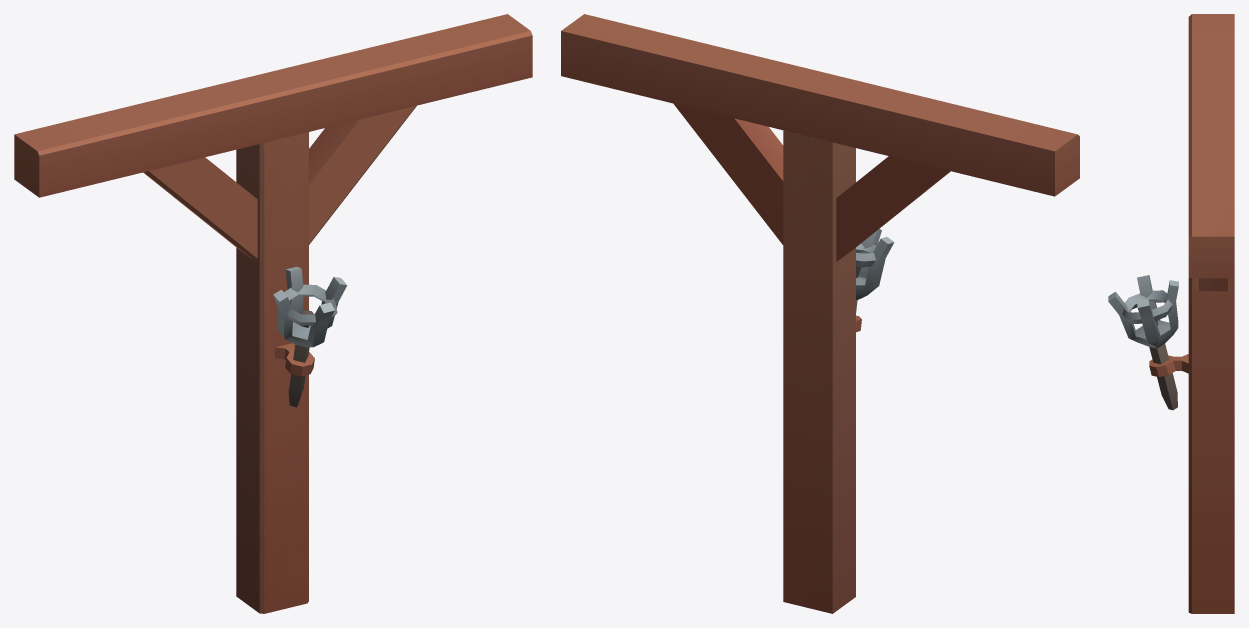
The model's file is scaffold_pillar_wall_torch.glb.
3 views of the same model, side by side, from view 1: azimuth 30°, elevation 25°; view 2: azimuth 150°, elevation 25°; view 3: azimuth 270°, elevation 25° (orthographic). The views are drawn at different scales.
Parts seen in each view (by area): view 1: scaffold_pillar_wall_torch; view 2: scaffold_pillar_wall_torch; view 3: scaffold_pillar_wall_torch.
Boxes of the visible parts, <box> form: scaffold_pillar_wall_torch: <box>14,14,532,613</box>; scaffold_pillar_wall_torch: <box>561,14,1079,613</box>; scaffold_pillar_wall_torch: <box>1108,14,1234,613</box>.
Size of the model in its own units: 4 by 4 by 0.9605.
Materials: 1 (1 with a texture image).
